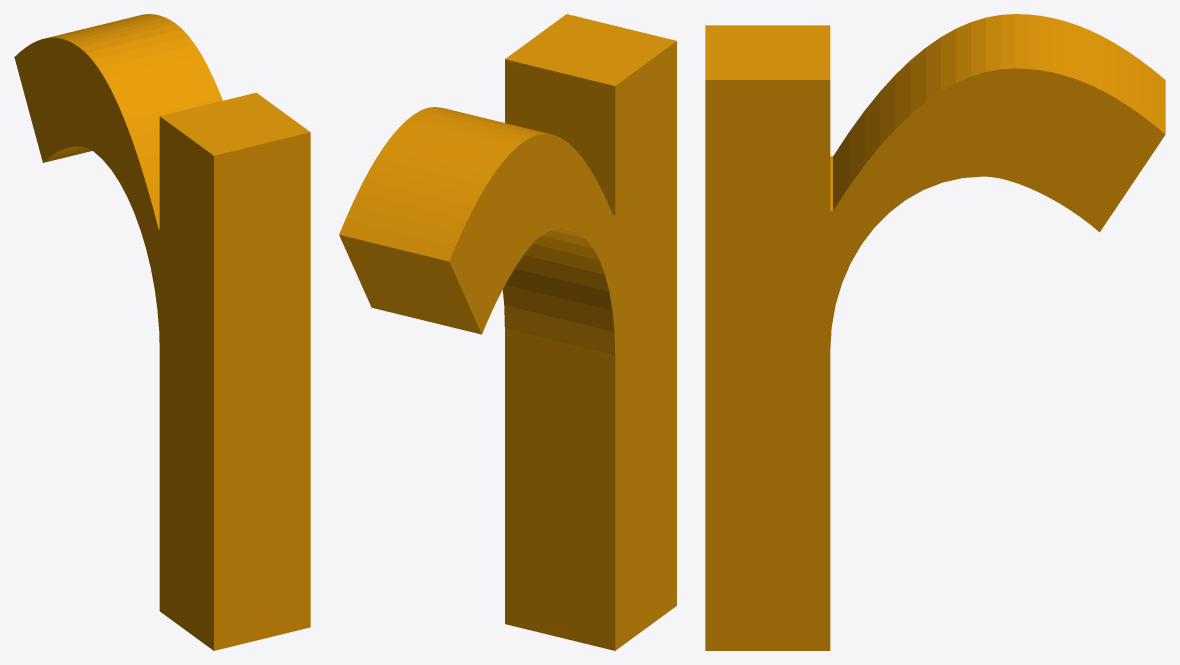
The model's file is letter(r).fbx.
The picture shows the model from 3 angles, left to right: view 1: azimuth 30°, elevation 25°; view 2: azimuth 150°, elevation 25°; view 3: azimuth 270°, elevation 25°; orthographic projection. The views are drawn at different scales.
Parts seen in each view (by area): view 1: Text; view 2: Text; view 3: Text.
Part boxes in pixels (bbox=[...]): Text: bbox=[14, 14, 310, 650]; Text: bbox=[339, 14, 676, 650]; Text: bbox=[705, 14, 1165, 650].
Bounding box in the file's own units: 9.18 × 45.8 × 32.8.
